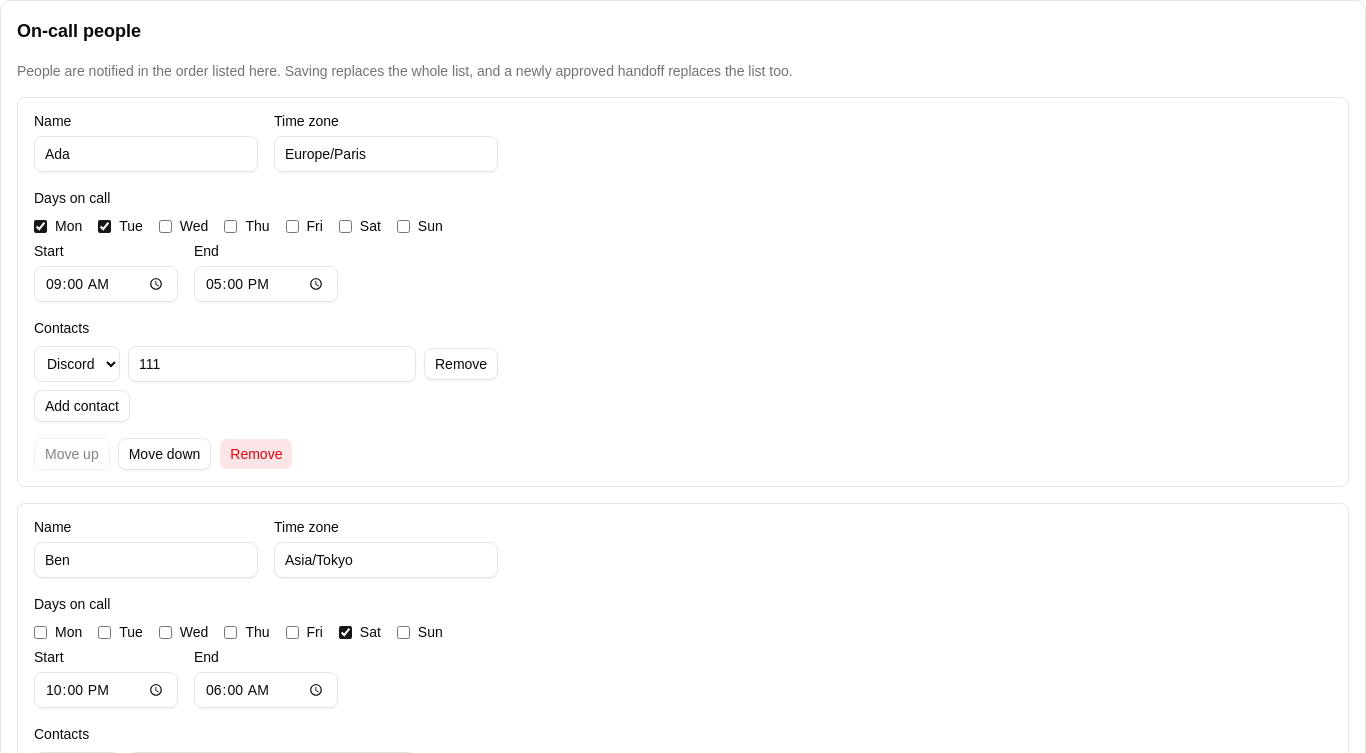
Test: removes a person and renumbers the rest
The width and height of the screenshot is (1366, 753).
Click the button with aria-label "Remove person 1" at coordinates (256, 454), box [219,438,293,470]
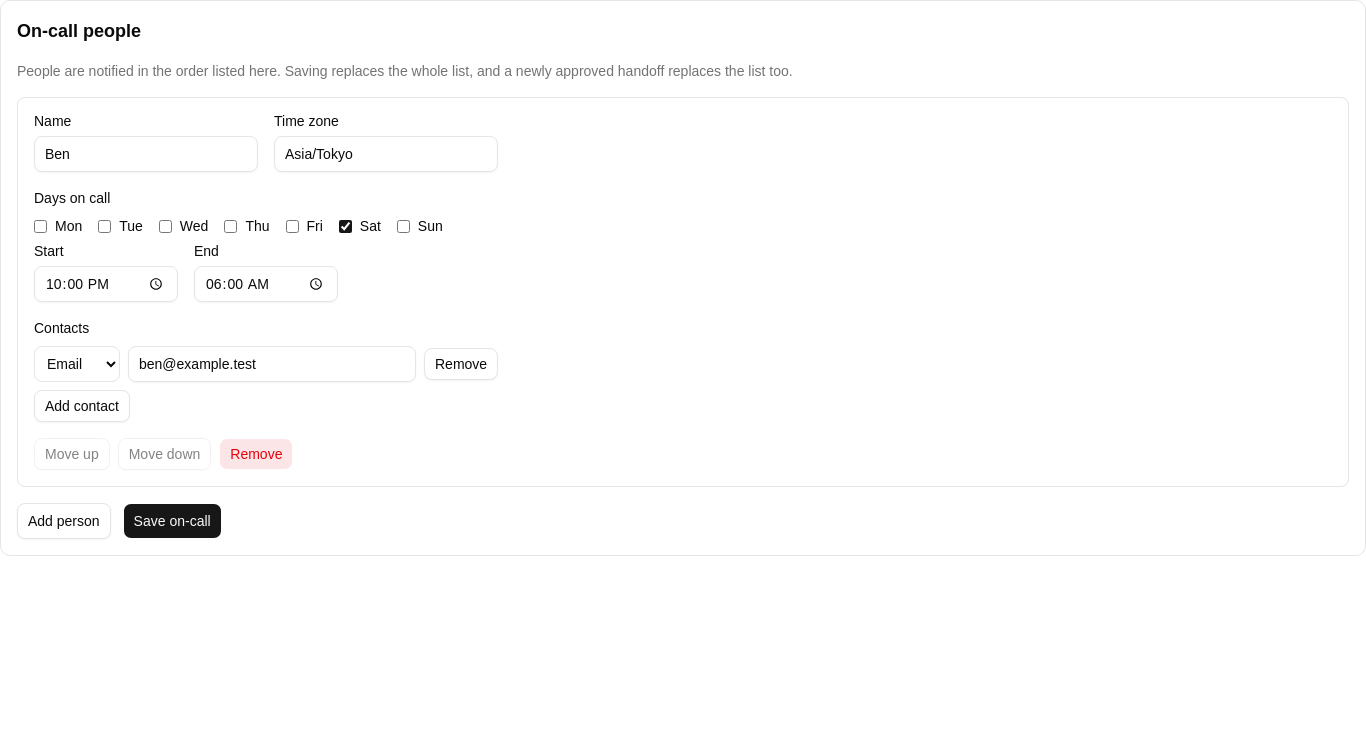
Click the button "Save on-call" at coordinates (172, 521), box [123,503,222,539]
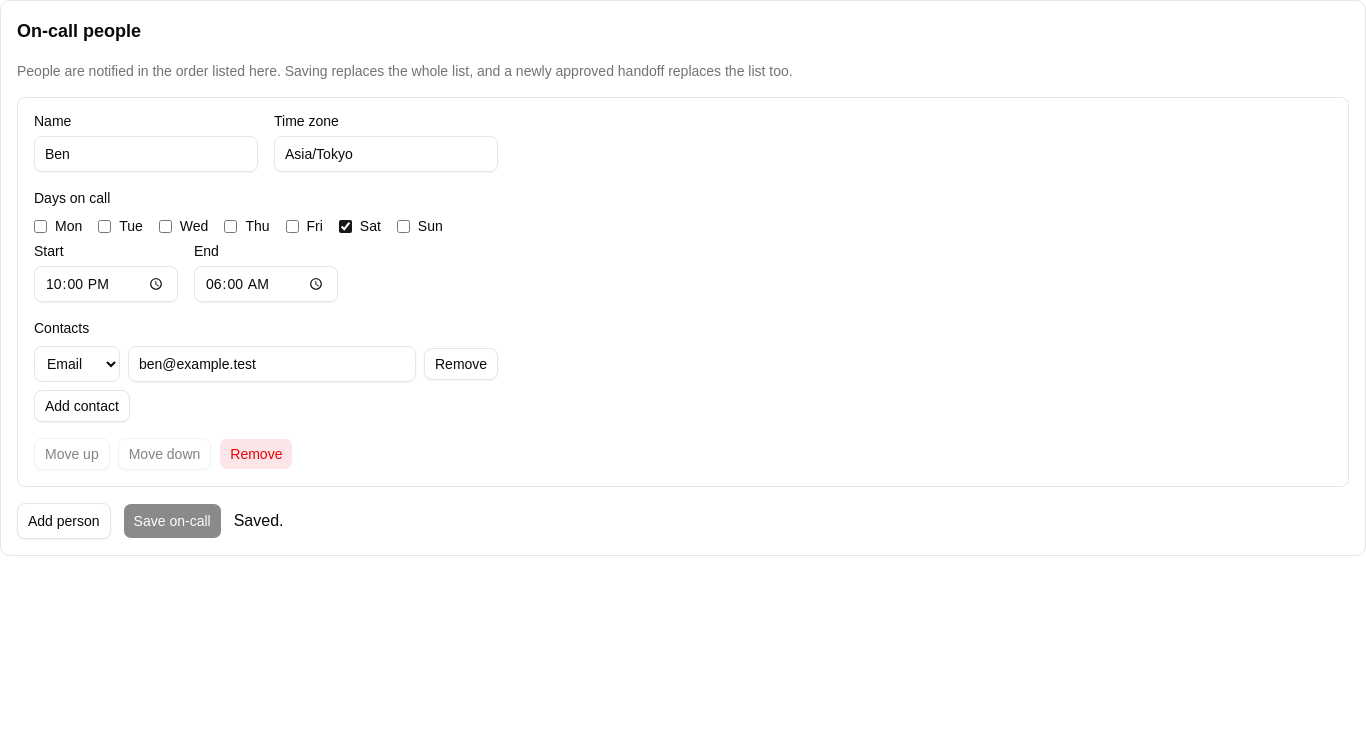
Expected: the text "Saved." is shown, [234,509,284,533]
